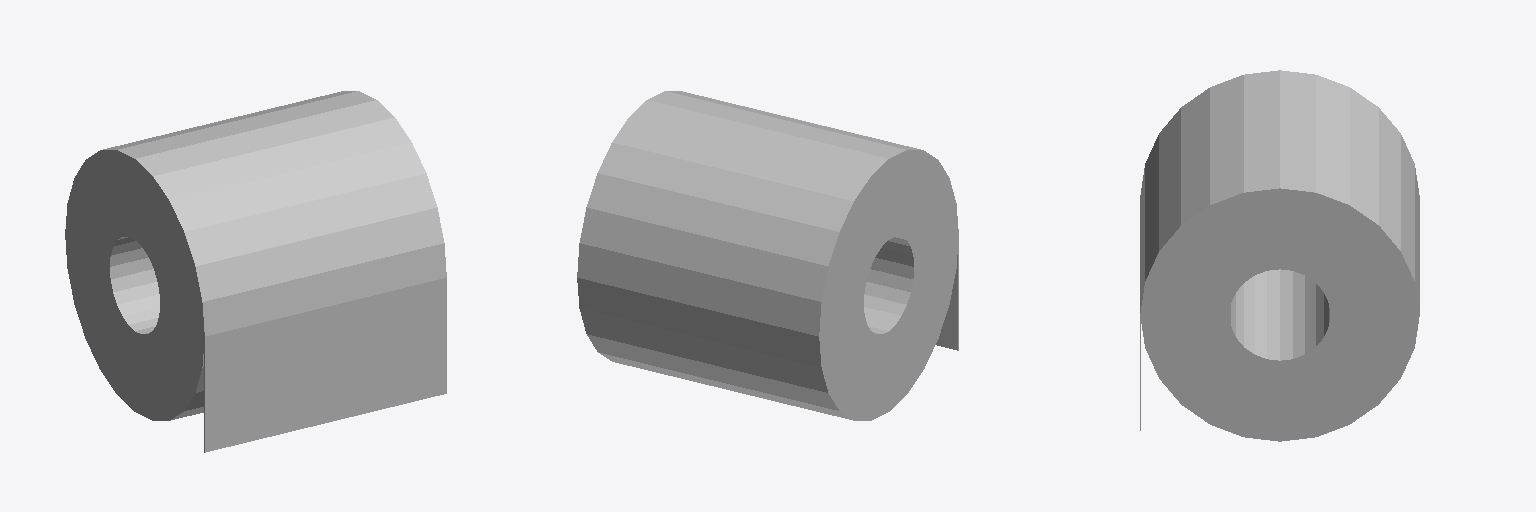
File: toilet_obj.obj
3 views of the same model, side by side, from view 1: azimuth 30°, elevation 25°; view 2: azimuth 150°, elevation 25°; view 3: azimuth 270°, elevation 25° (orthographic).
Parts seen in each view (by area): view 1: Mesh1 Toilet_Paper1 Model; view 2: Mesh1 Toilet_Paper1 Model; view 3: Mesh1 Toilet_Paper1 Model.
Part boxes in pixels (x1,y1,x2,y2): Mesh1 Toilet_Paper1 Model: (65, 91, 446, 452); Mesh1 Toilet_Paper1 Model: (577, 91, 958, 420); Mesh1 Toilet_Paper1 Model: (1140, 70, 1419, 441).
Bounding box in the file's own units: 5.43 × 5.43 × 5.43.